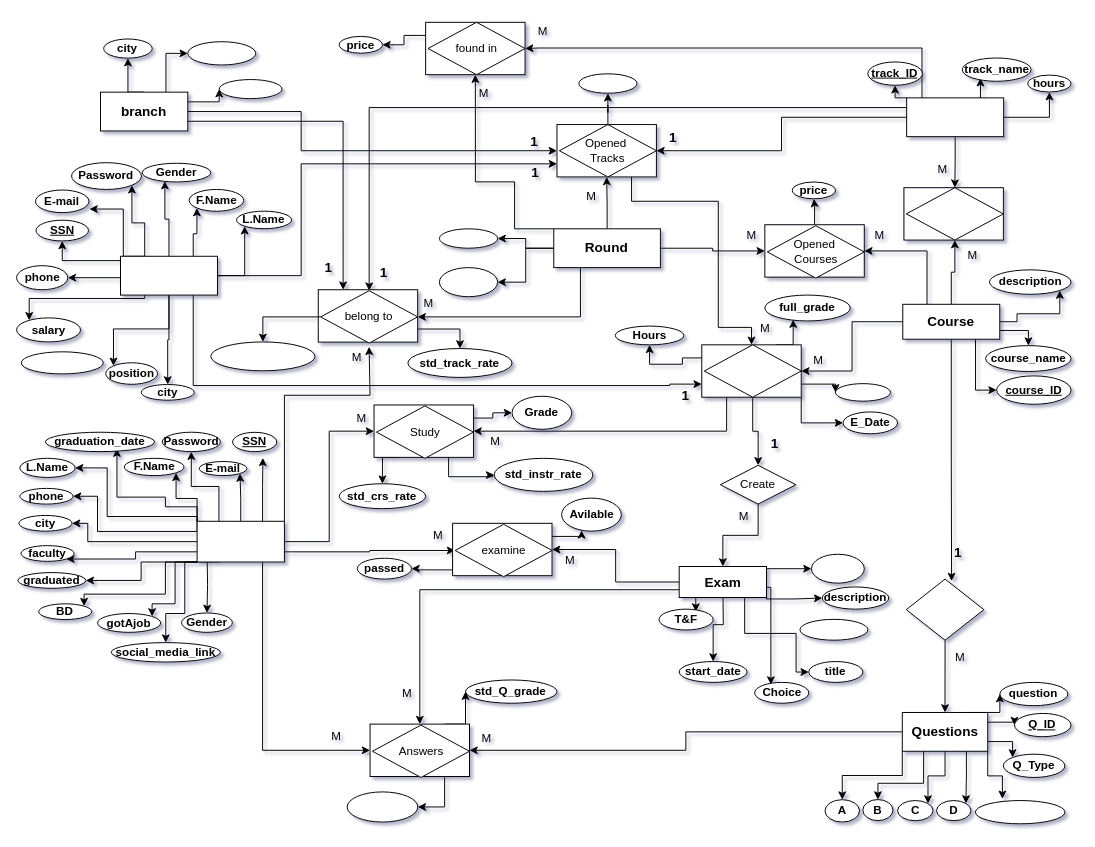
The diagram is 1095 pixels wide and 847 high, and some of its shapes have lost their labels. The shapes that lost their labels are listed below. From the top down, each one's centre as x and y in pixels, then its label:
point (221, 53): branch_ID
point (250, 89): Location
point (607, 83): ID
point (955, 117): Track
point (954, 213): has
point (468, 238): Year
point (168, 275): Instructor
point (468, 282): Round_N
point (61, 362): birthDate
point (262, 356): std_branch_rate
point (752, 370): Teach
point (862, 392): S_Date
point (240, 541): Student
point (837, 568): exam_id
point (833, 629): end_date
point (944, 609): contain
point (382, 806): St_Answer
point (1019, 812): model_answer
